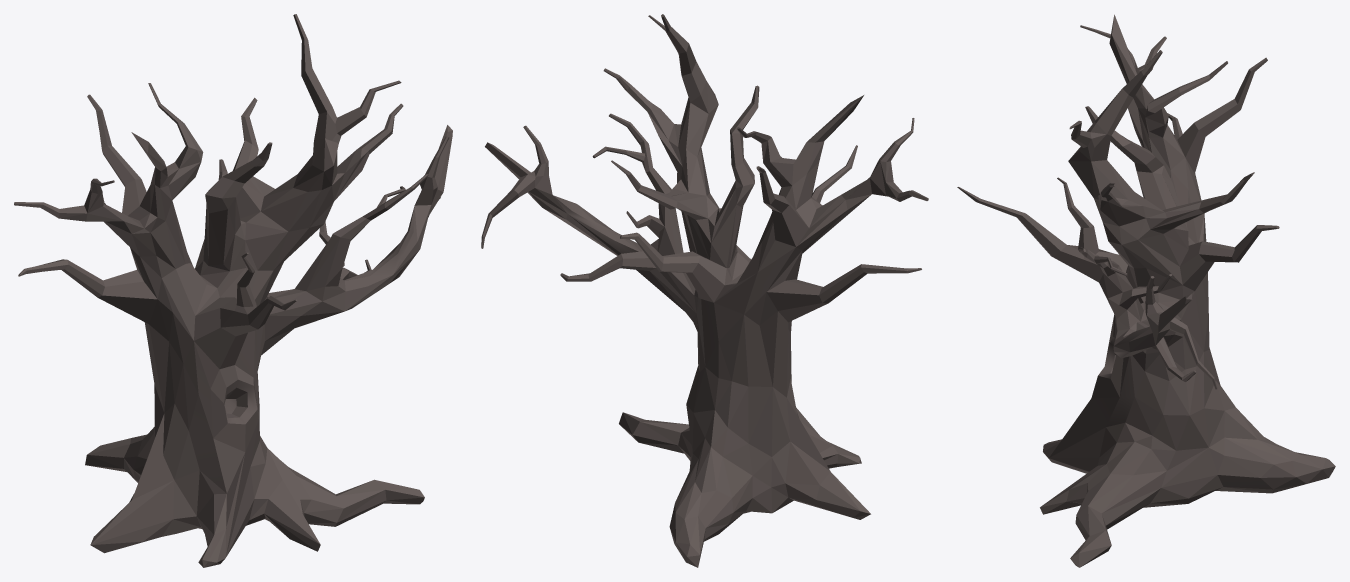
The model's file is fantasy_plant_032.fbx.
The picture shows the model from 3 angles, left to right: view 1: azimuth 30°, elevation 25°; view 2: azimuth 150°, elevation 25°; view 3: azimuth 270°, elevation 25°; orthographic projection. The views are drawn at different scales.
Visible parts, largest first — view 1: fantasy_plant.032; view 2: fantasy_plant.032; view 3: fantasy_plant.032.
Boxes of the visible parts, x1=… form: fantasy_plant.032: x1=14, y1=14, x2=452, y2=567; fantasy_plant.032: x1=481, y1=14, x2=928, y2=567; fantasy_plant.032: x1=957, y1=14, x2=1335, y2=567.
Bounding box in the file's own units: 2276 × 2360 × 1671.
Materials: 1 (1 with a texture image).
